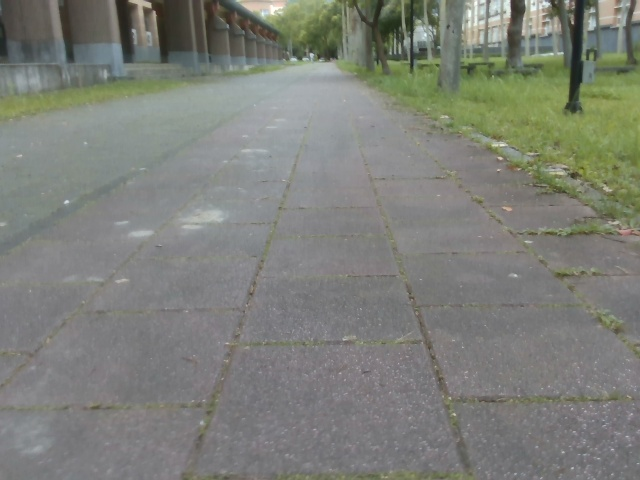grass: (335, 45, 639, 229), (265, 0, 462, 94), (0, 62, 298, 121), (548, 0, 598, 114)
road: (0, 62, 639, 479)
